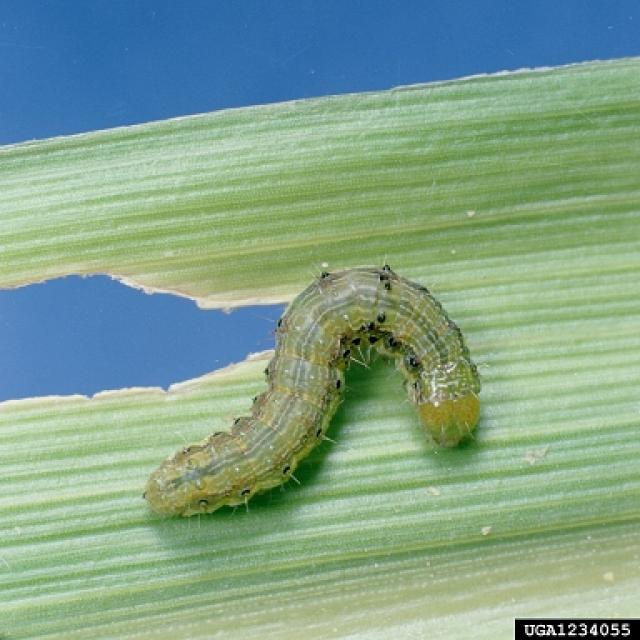Corn-earworm: (155, 259, 481, 518)
